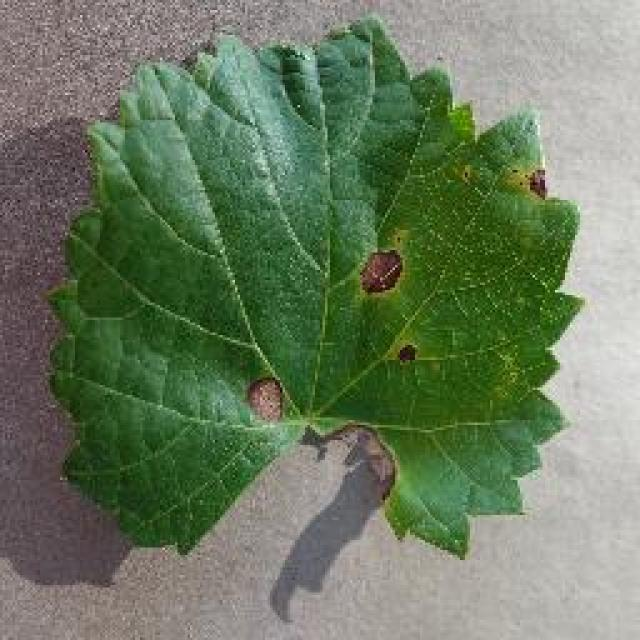Grape___Black_rot: (43, 10, 587, 563)
